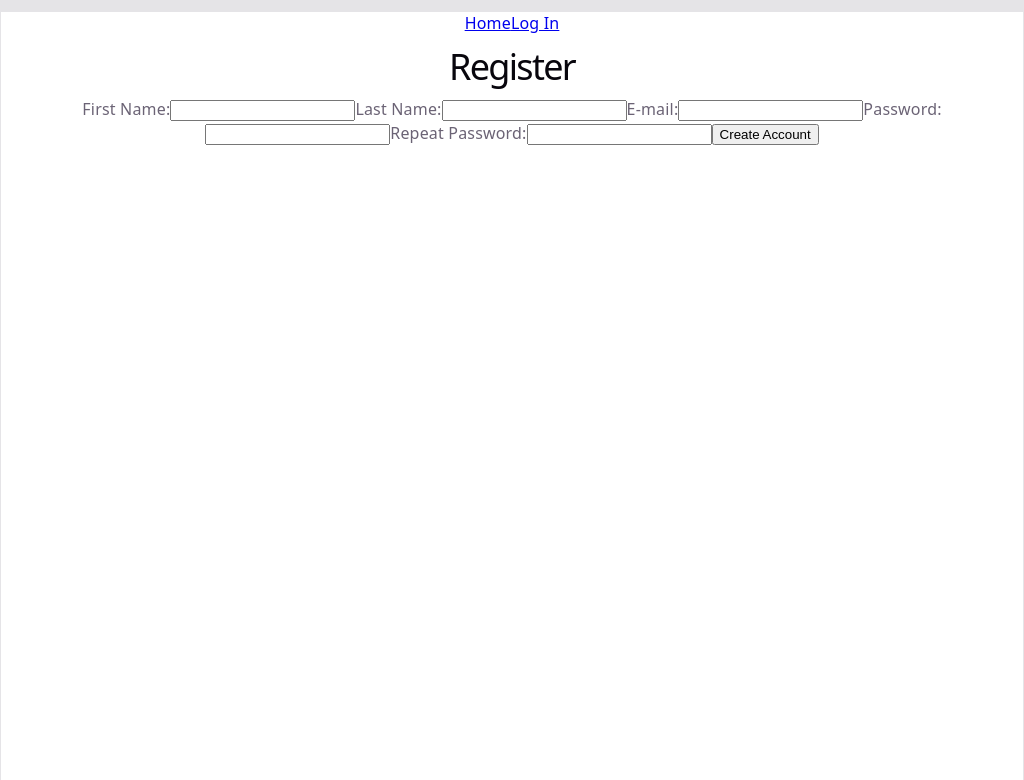
shows an error when passwords are different
Type "password123" into the password field labelled "Password:" at (298, 134), box [205,124,390,145]
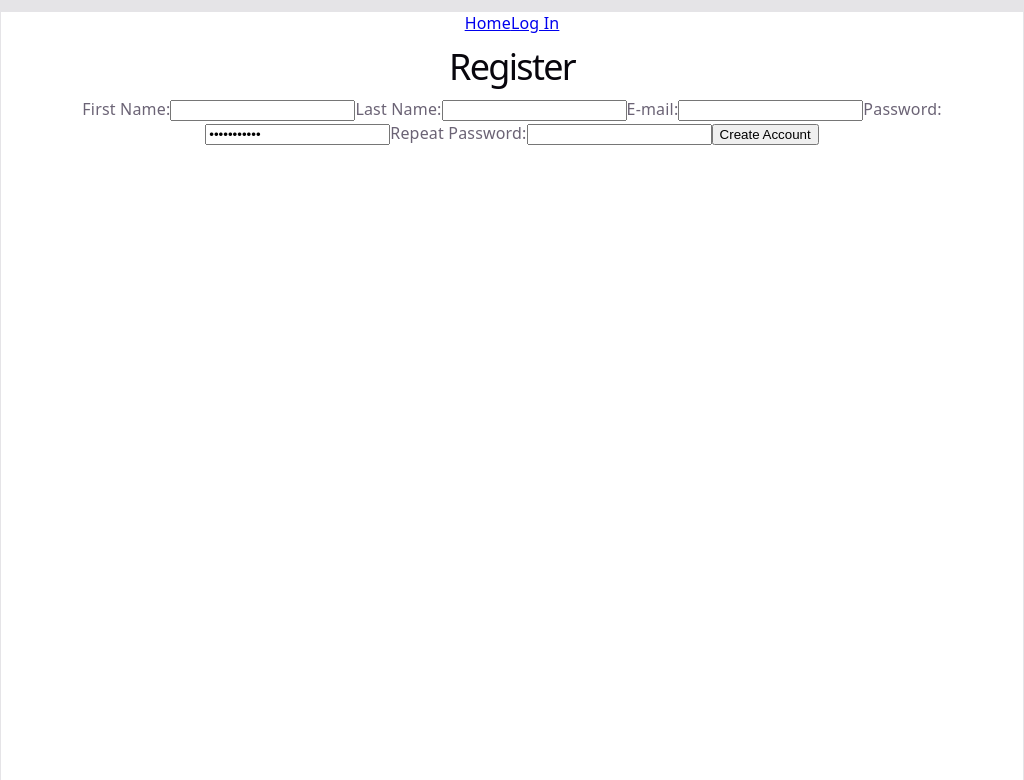
Type "different123" into the password field labelled "Repeat Password:" at (619, 134), box [527,124,712,145]
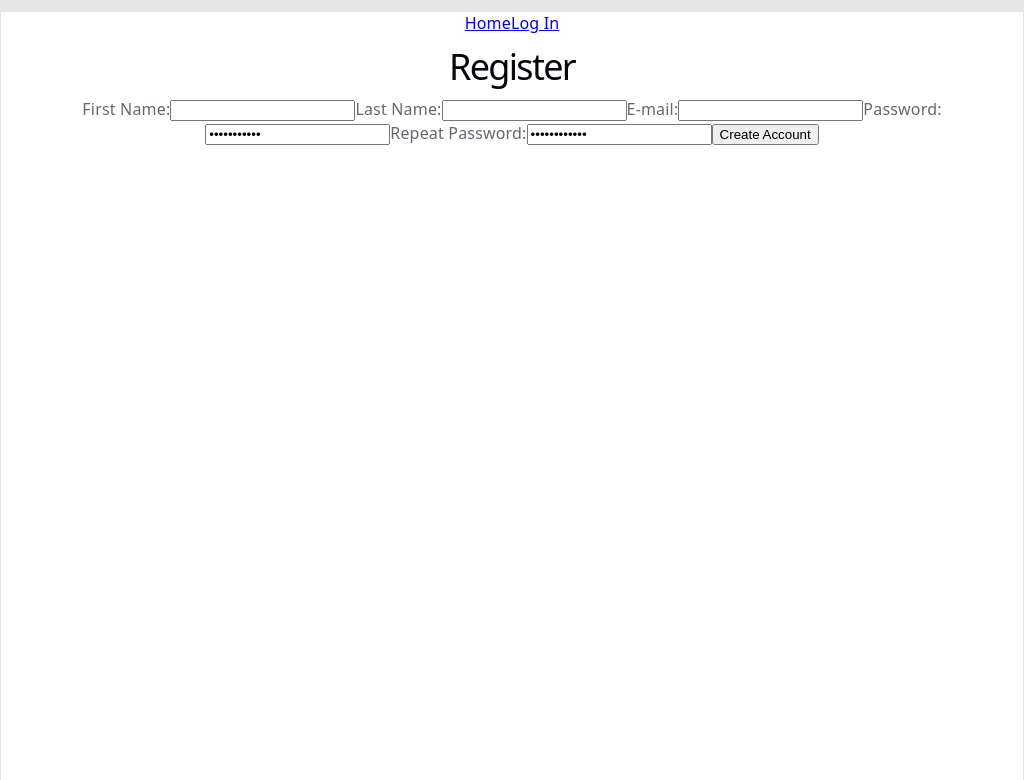
Submit the form "Create Account", box [82,98,942,145]
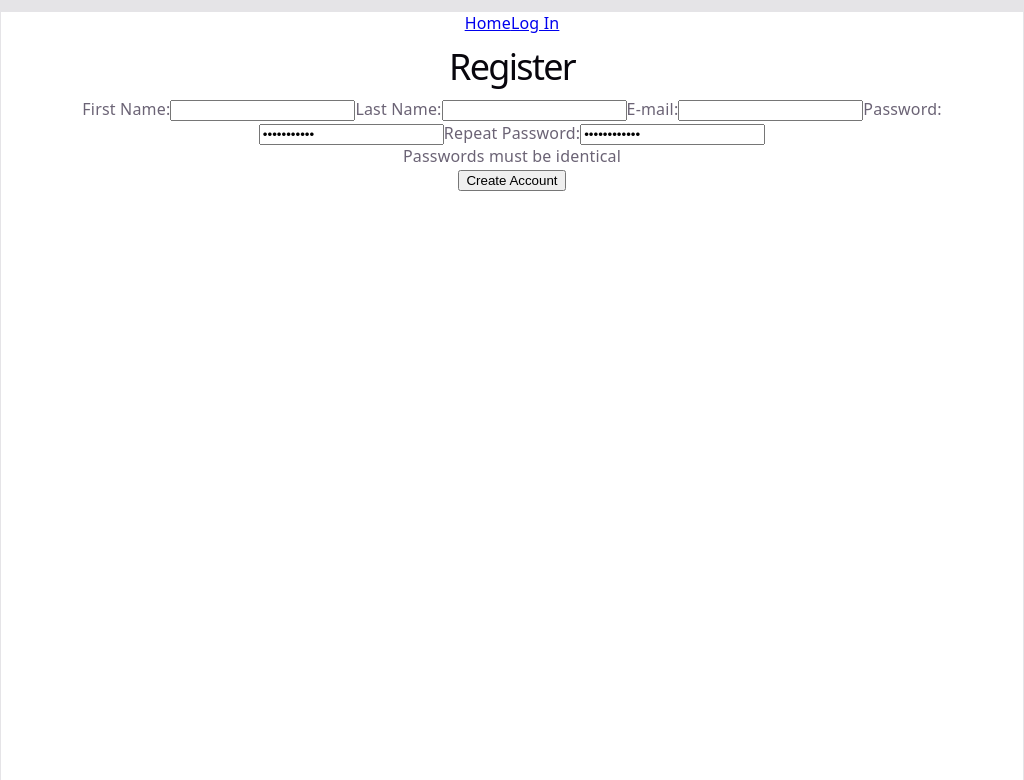
Check: the message reads "Passwords must be identical", box [403,145,621,167]
